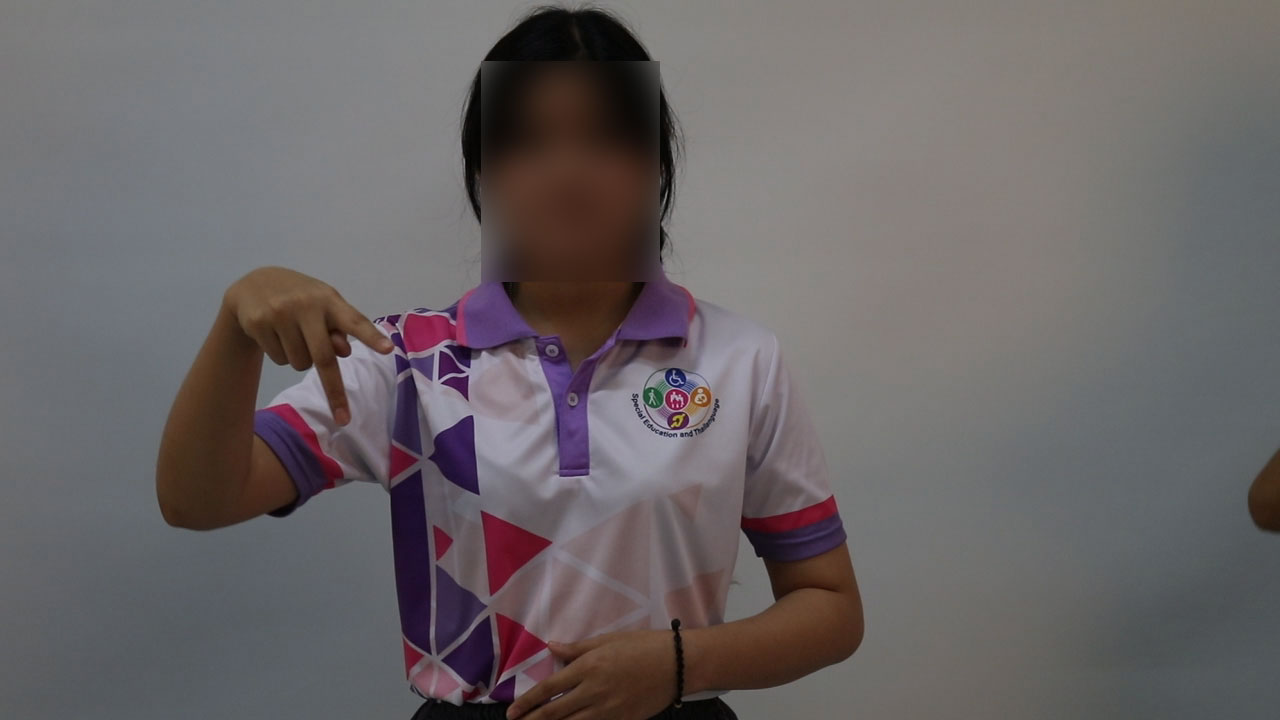por: (213, 237, 402, 433)
